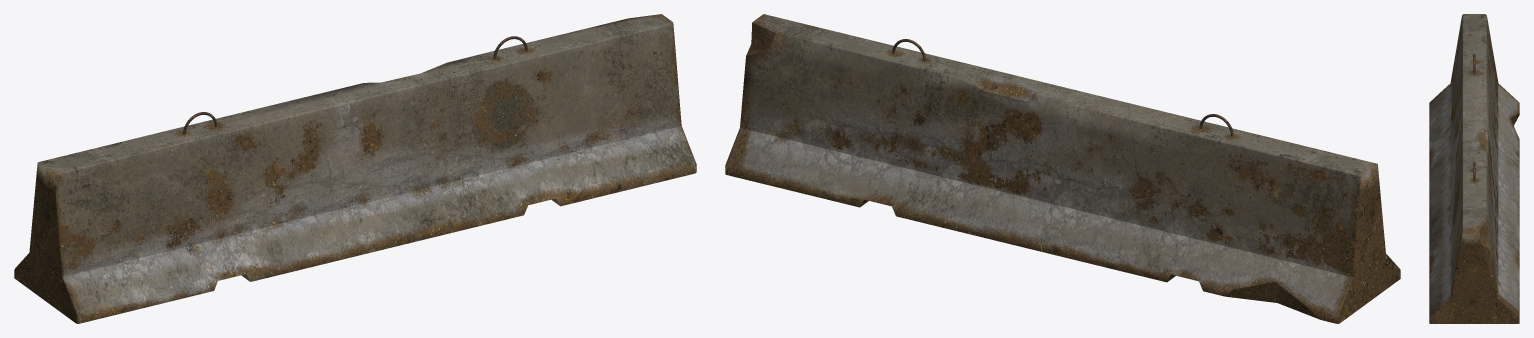
Rendered from Barrier.fbx.
3 views of the same model, side by side, from view 1: azimuth 30°, elevation 25°; view 2: azimuth 150°, elevation 25°; view 3: azimuth 270°, elevation 25° (orthographic). The views are drawn at different scales.
Parts seen in each view (by area): view 1: pasted__Barrier_Concrete_01; view 2: pasted__Barrier_Concrete_01; view 3: pasted__Barrier_Concrete_01.
Part boxes in pixels (left/top/right/bottom): pasted__Barrier_Concrete_01: left=14, top=14, right=696, bottom=323; pasted__Barrier_Concrete_01: left=725, top=14, right=1400, bottom=323; pasted__Barrier_Concrete_01: left=1429, top=14, right=1519, bottom=323.
Size of the model in its own units: 400 by 92.94 by 71.
Materials: 1 (1 with a texture image).
